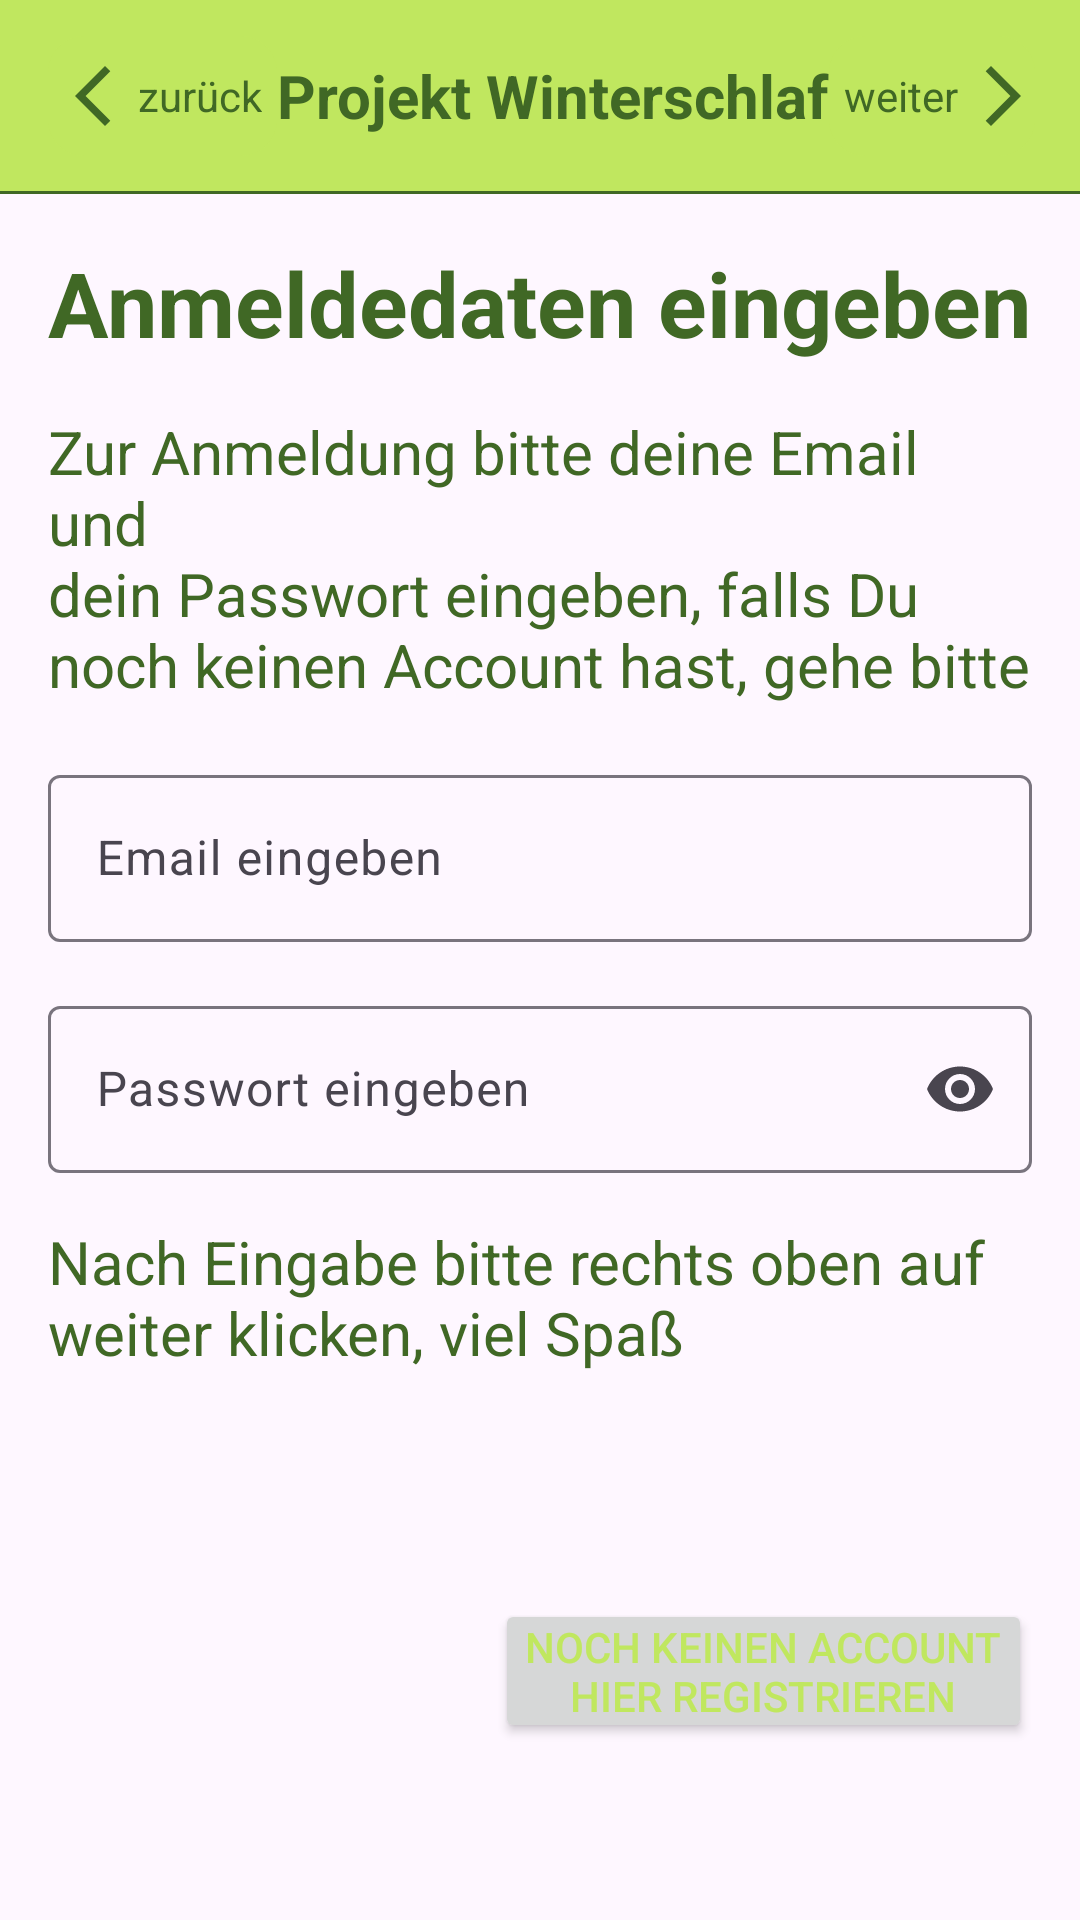

Where to tap for icons on this 1080px×1920px app screen, as (x,y):
back: (92,96)
